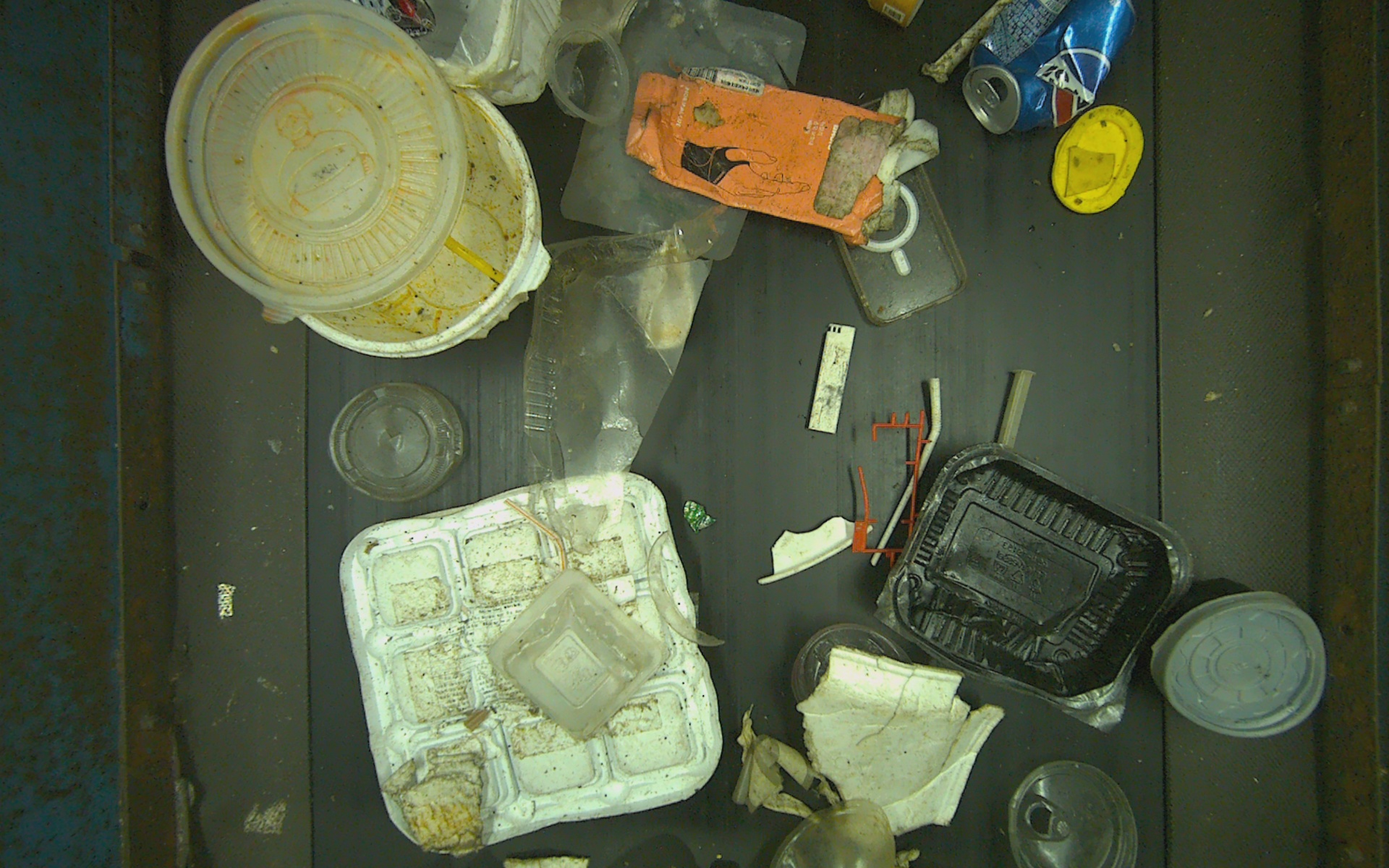PET-C: (328, 382, 465, 500), (1008, 761, 1138, 868)
PP-B: (894, 448, 1189, 709)
